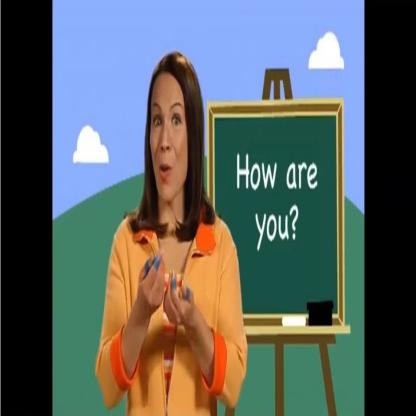HowAreYou: (129, 234, 207, 357)
